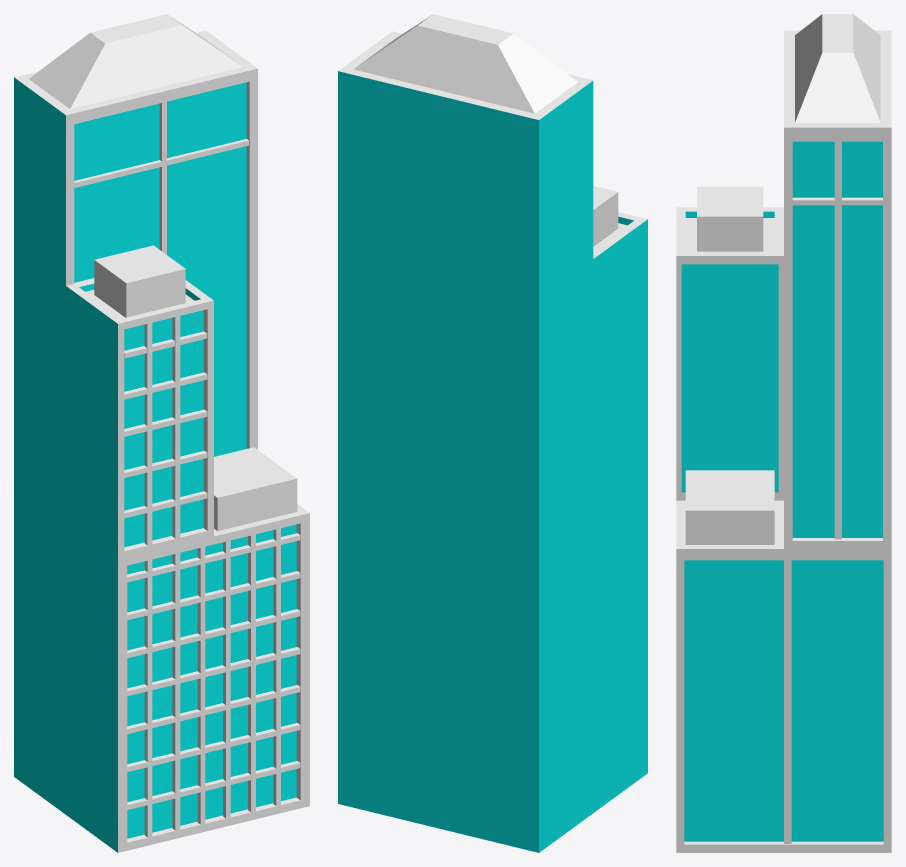
File: Building_26_Blue (1).glb
The picture shows the model from 3 angles, left to right: view 1: azimuth 30°, elevation 25°; view 2: azimuth 150°, elevation 25°; view 3: azimuth 270°, elevation 25°; orthographic projection. The views are drawn at different scales.
Visible parts, largest first — view 1: pasted__pCube30; view 2: pasted__pCube30; view 3: pasted__pCube30.
Boxes of the visible parts, x1,y1,x2,y2 form: pasted__pCube30: (14,14,309,852); pasted__pCube30: (338,14,647,852); pasted__pCube30: (676,14,891,852).
Size of the model in its own units: 3842 by 14235 by 3603.
